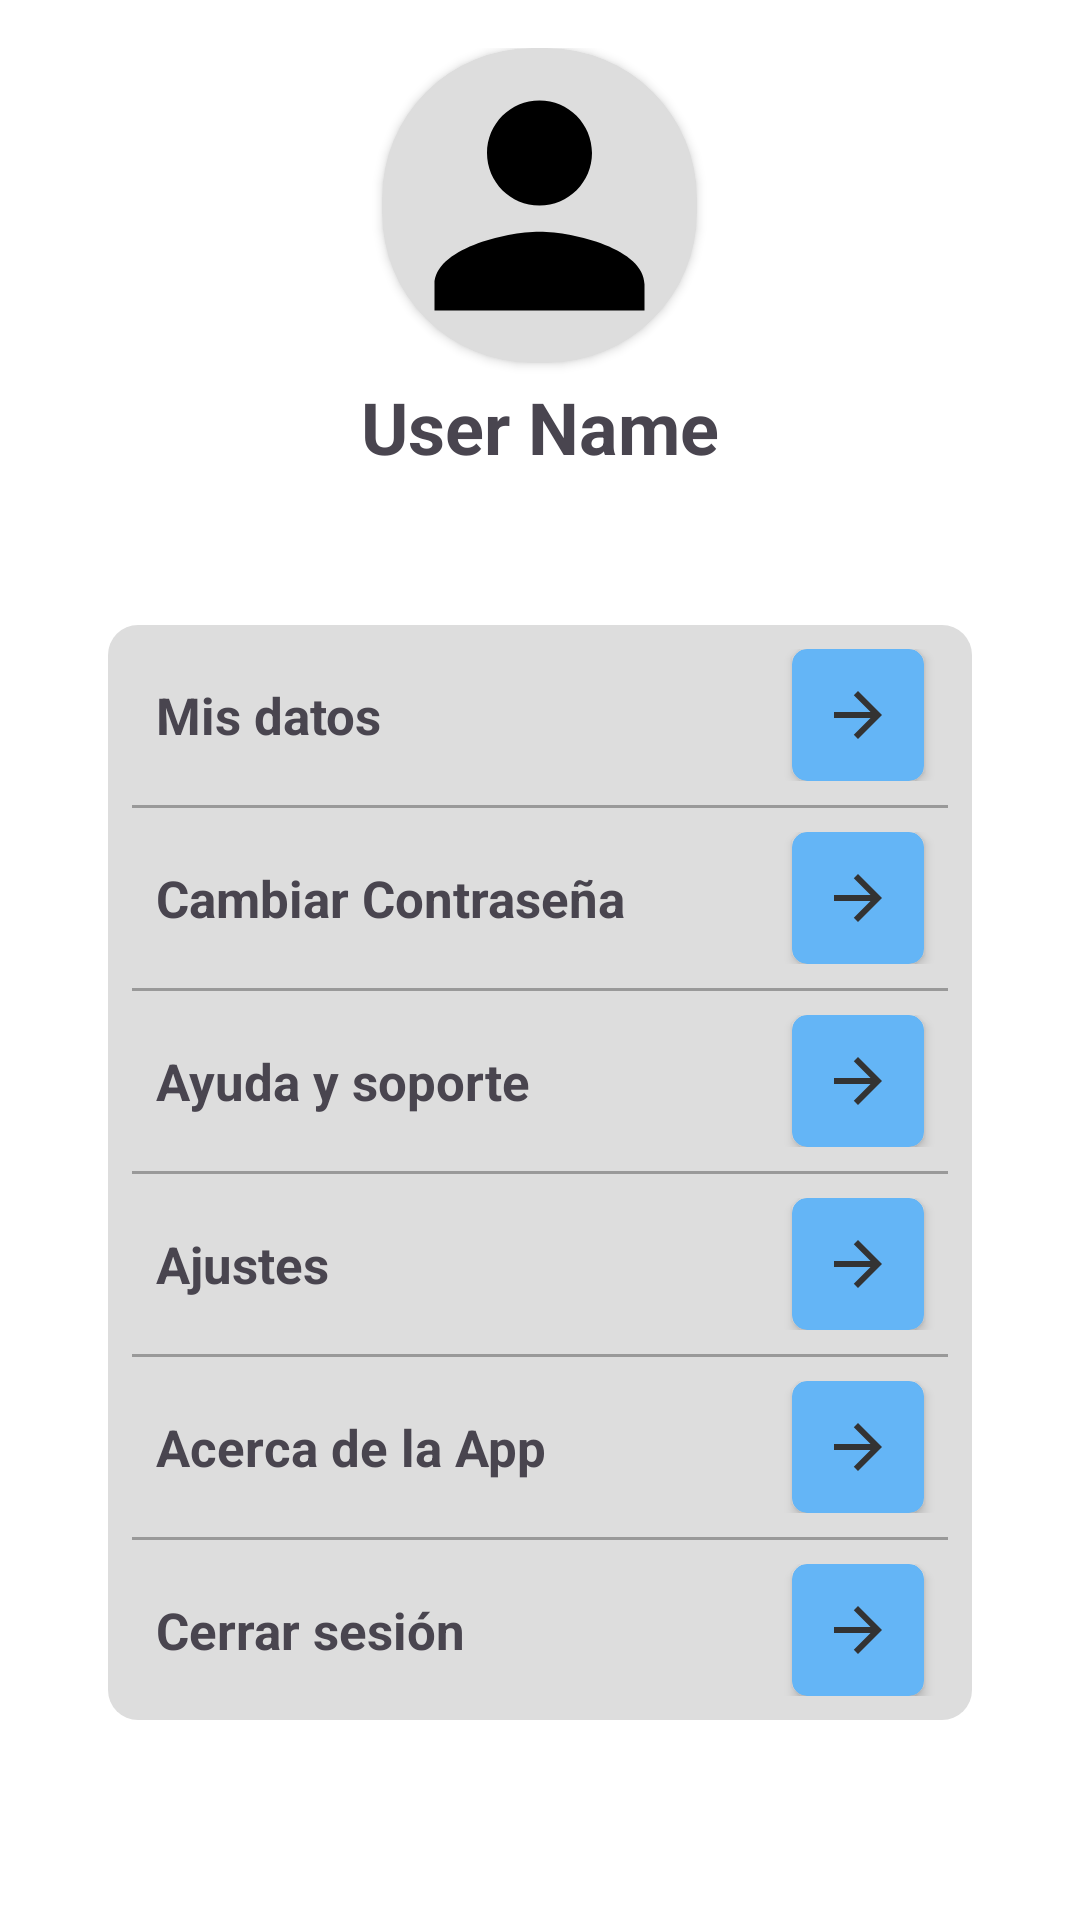

Where icons sit on this 1080 × 1920 app screen, as bbox=[x1, y1, x2, y2]:
right arrow: bbox=[792, 649, 924, 781], bbox=[792, 832, 924, 964], bbox=[792, 1015, 924, 1147], bbox=[792, 1198, 924, 1330], bbox=[792, 1381, 924, 1513], bbox=[792, 1564, 924, 1696]
